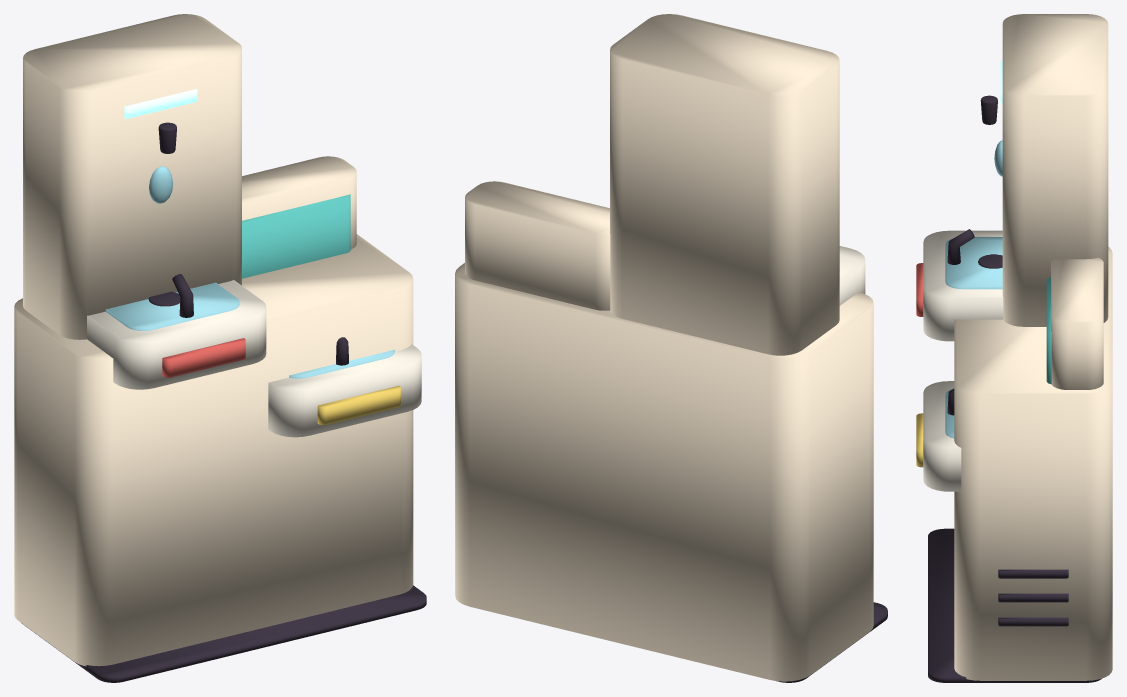
File: water-fountain.glb
The picture shows the model from 3 angles, left to right: view 1: azimuth 30°, elevation 25°; view 2: azimuth 150°, elevation 25°; view 3: azimuth 270°, elevation 25°; orthographic projection. The views are drawn at different scales.
Visible parts, largest first — view 1: HallwayWaterFountain_CreamShroud, HallwayWaterFountain_CreamBasins, HallwayWaterFountain_SlateSpoutsAndPads, HallwayWaterFountain_TurquoiseBack, HallwayWaterFountain_SkyWaterAndDrop, HallwayWaterFountain_CoralPushBar, HallwayWaterFountain_ButterPushBar, HallwayWaterFountain_GlowIndicator; view 2: HallwayWaterFountain_CreamShroud, HallwayWaterFountain_CreamBasins; view 3: HallwayWaterFountain_CreamShroud, HallwayWaterFountain_CreamBasins, HallwayWaterFountain_SlateSpoutsAndPads, HallwayWaterFountain_SkyWaterAndDrop, HallwayWaterFountain_TurquoiseBack, HallwayWaterFountain_ButterPushBar, HallwayWaterFountain_CoralPushBar.
Boxes of the visible parts, x1,y1,x2,y2 form: HallwayWaterFountain_CreamShroud: (14, 14, 413, 666); HallwayWaterFountain_CreamBasins: (87, 280, 421, 437); HallwayWaterFountain_SlateSpoutsAndPads: (21, 122, 426, 682); HallwayWaterFountain_TurquoiseBack: (242, 194, 350, 278); HallwayWaterFountain_SkyWaterAndDrop: (105, 166, 394, 378); HallwayWaterFountain_CoralPushBar: (162, 338, 245, 377); HallwayWaterFountain_ButterPushBar: (317, 385, 400, 425); HallwayWaterFountain_GlowIndicator: (124, 89, 197, 118); HallwayWaterFountain_CreamShroud: (455, 14, 873, 681); HallwayWaterFountain_CreamBasins: (839, 246, 865, 305); HallwayWaterFountain_CreamShroud: (954, 14, 1112, 680); HallwayWaterFountain_CreamBasins: (923, 230, 1003, 491); HallwayWaterFountain_SlateSpoutsAndPads: (928, 95, 1101, 682); HallwayWaterFountain_SkyWaterAndDrop: (945, 140, 1002, 438); HallwayWaterFountain_TurquoiseBack: (1046, 277, 1051, 384); HallwayWaterFountain_ButterPushBar: (916, 413, 923, 467); HallwayWaterFountain_CoralPushBar: (916, 263, 923, 316).
Size of the model in its own units: 0.829 by 1.31 by 0.446.
